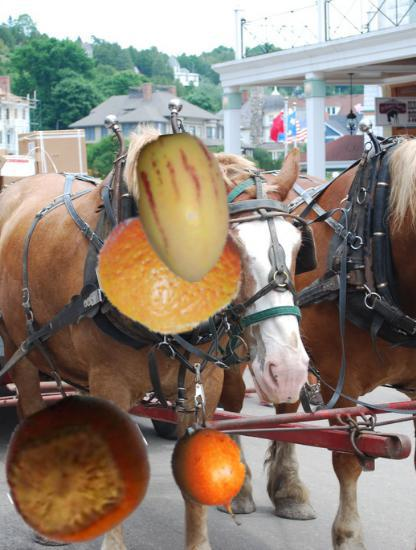Granadilla: (157, 423, 267, 533)
Mandarine: (98, 200, 243, 345)
Nut: (4, 396, 152, 544)
Pepino: (109, 133, 259, 283)
